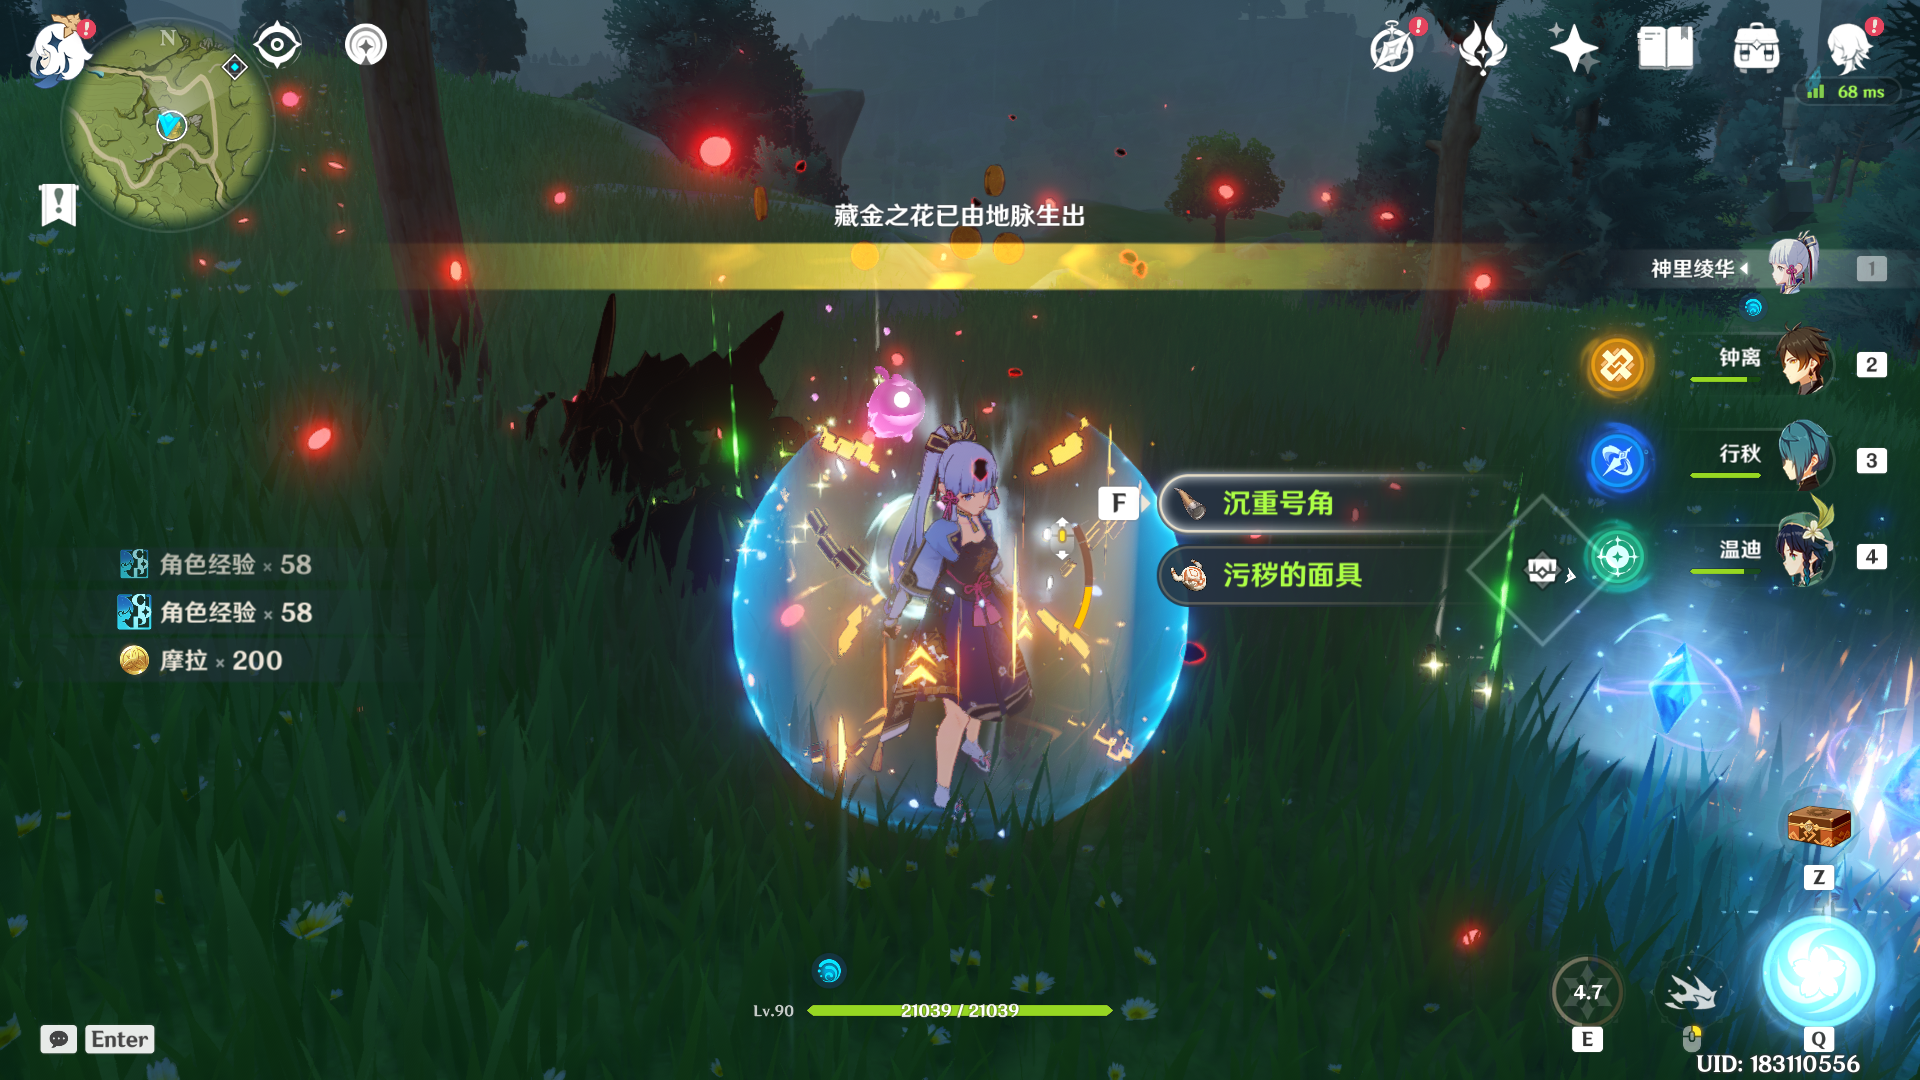character: (811, 404, 1149, 855)
